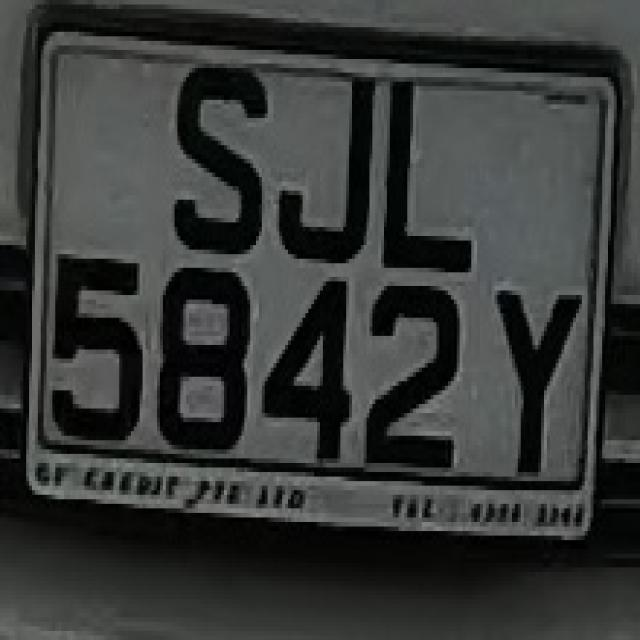2: (352, 272, 465, 500)
4: (253, 236, 358, 477)
5: (47, 245, 157, 468)
8: (148, 236, 256, 481)
J: (268, 36, 381, 268)
L: (372, 59, 480, 286)
S: (166, 41, 273, 272)
Y: (489, 254, 576, 499)
